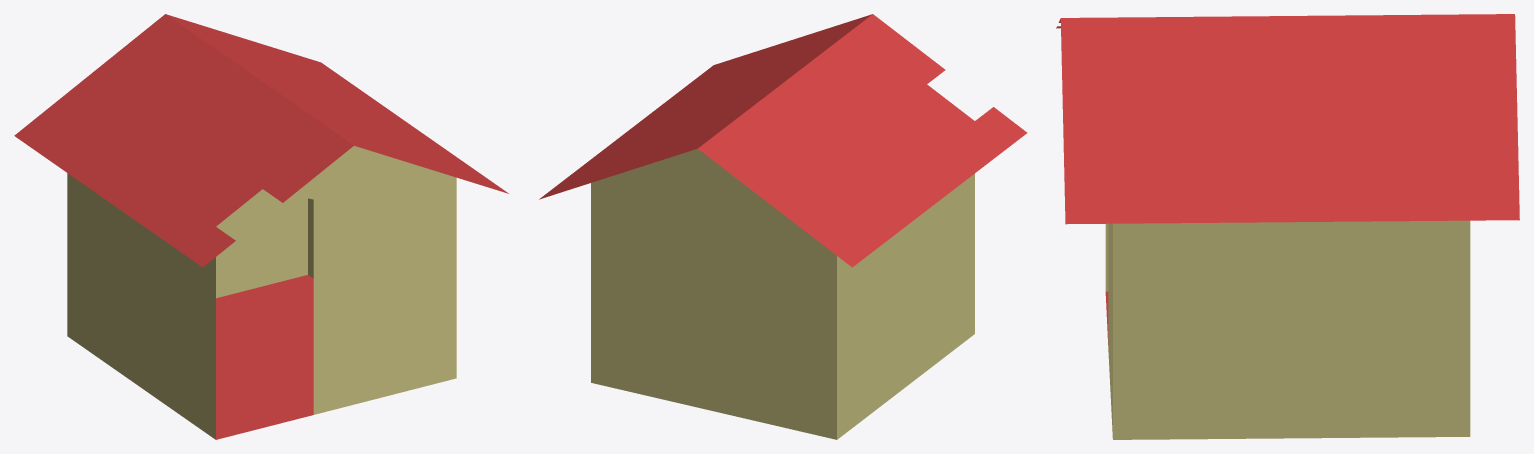
The picture shows the model from 3 angles, left to right: view 1: azimuth 30°, elevation 25°; view 2: azimuth 150°, elevation 25°; view 3: azimuth 270°, elevation 25°; orthographic projection. The views are drawn at different scales.
Size of the model in its own units: 14.14 by 14.35 by 11.84.
